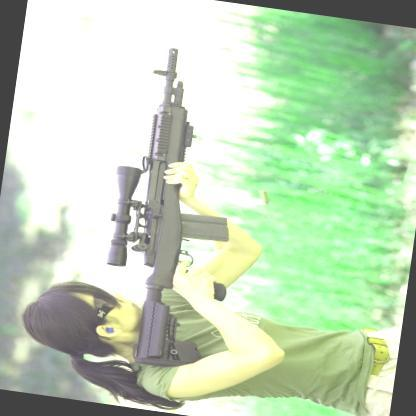rifle: (83, 37, 255, 376)
